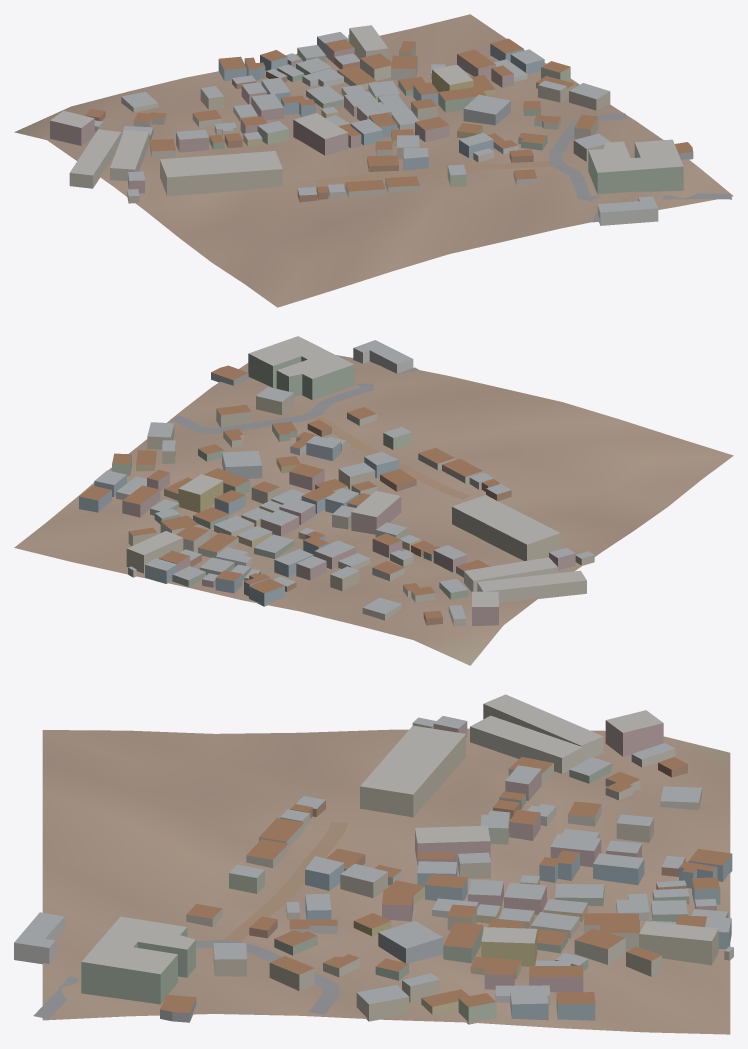
3 renders of one model, top to bottom at view 1: azimuth 30°, elevation 25°; view 2: azimuth 150°, elevation 25°; view 3: azimuth 270°, elevation 25°, orthographic. The views are drawn at different scales.
Visible parts, largest first — view 1: Lo; view 2: Lo; view 3: Lo.
Boxes of the visible parts, bbox=[...] form: Lo: bbox=[14, 14, 733, 307]; Lo: bbox=[14, 336, 733, 665]; Lo: bbox=[14, 694, 733, 1034].
Bounding box in the file's own units: 279 × 24.19 × 268.
